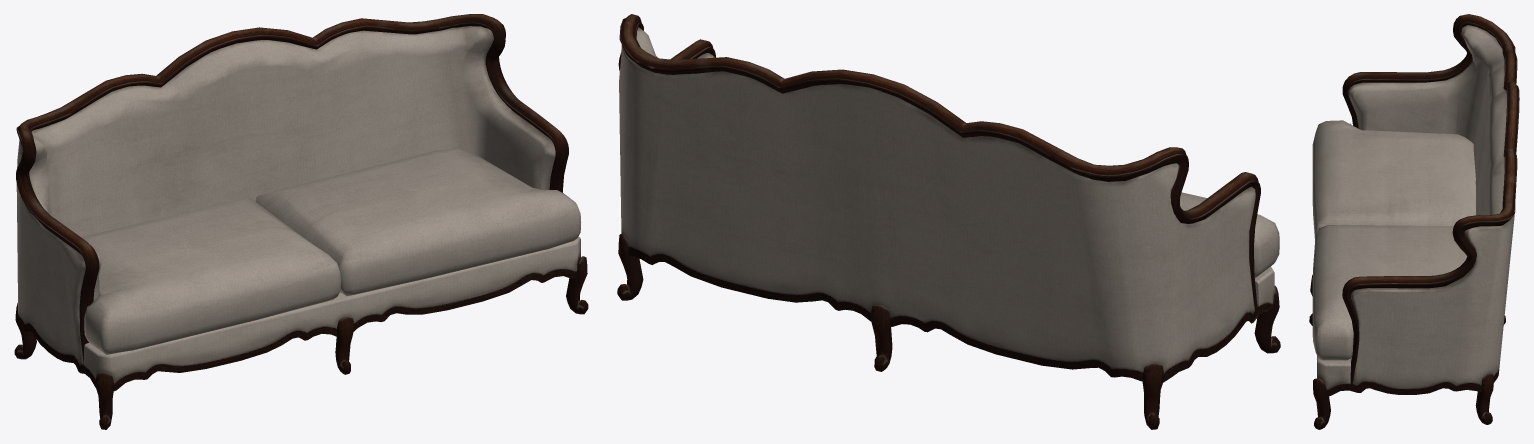
Rendered from sofa-camelback.glb.
3 renders of one model, left to right at view 1: azimuth 30°, elevation 25°; view 2: azimuth 150°, elevation 25°; view 3: azimuth 270°, elevation 25°, orthographic. The views are drawn at different scales.
Visible parts, largest first — view 1: sofa-camelback; view 2: sofa-camelback; view 3: sofa-camelback.
Boxes of the visible parts, x1,y1,x2,y2 form: sofa-camelback: (14, 14, 588, 429); sofa-camelback: (617, 14, 1280, 429); sofa-camelback: (1309, 14, 1519, 429).
Bounding box in the file's own units: 1.57 × 0.7965 × 0.658.
Materials: 2 (2 with a texture image).
